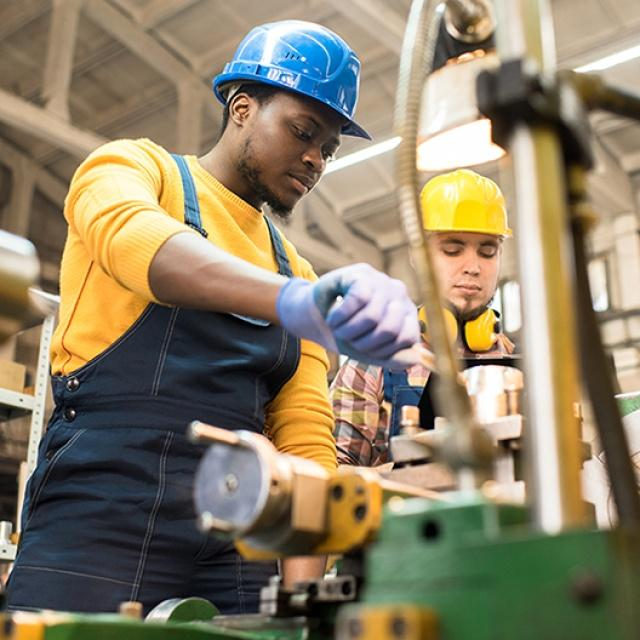helmet: (206, 19, 374, 296), (411, 226, 513, 422)
